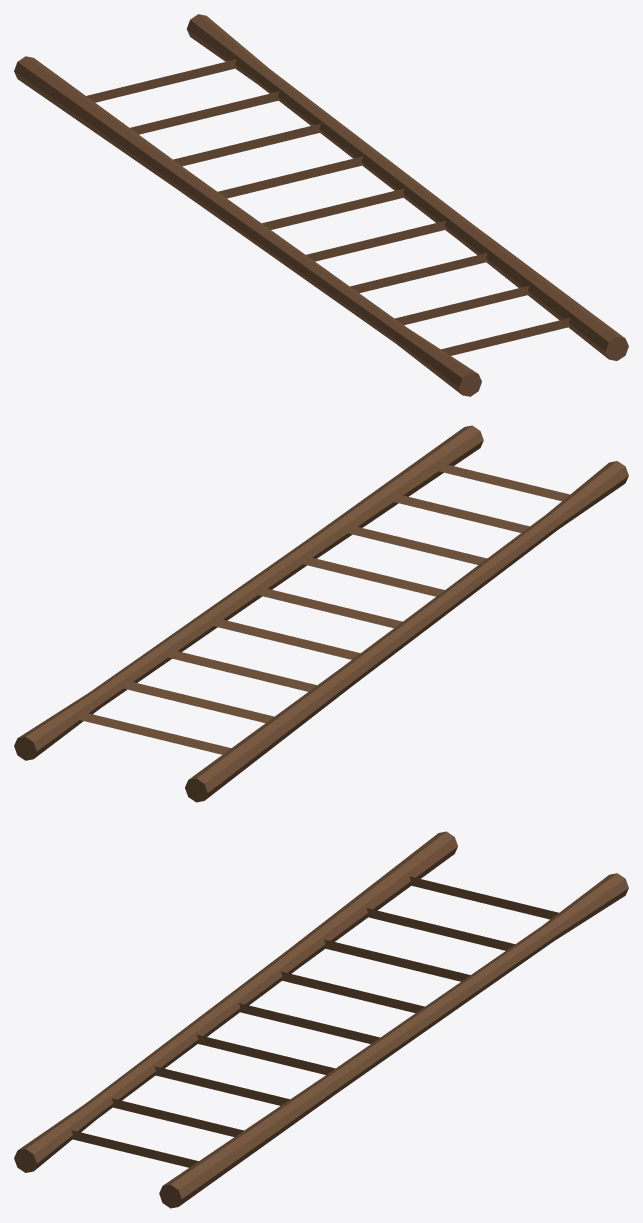
Rendered from Ladder_02.fbx.
3 views of the same model, one above another, from view 1: azimuth 30°, elevation 25°; view 2: azimuth 150°, elevation 25°; view 3: azimuth 330°, elevation 25° (orthographic).
Parts seen in each view (by area): view 1: Ladder_2.0_LOW.001; view 2: Ladder_2.0_LOW.001; view 3: Ladder_2.0_LOW.001.
Part boxes in pixels (x1,y1,x2,y2): Ladder_2.0_LOW.001: (14, 14, 628, 396); Ladder_2.0_LOW.001: (14, 425, 628, 802); Ladder_2.0_LOW.001: (14, 831, 628, 1208).
Bounding box in the file's own units: 51.97 × 6.16 × 200.
